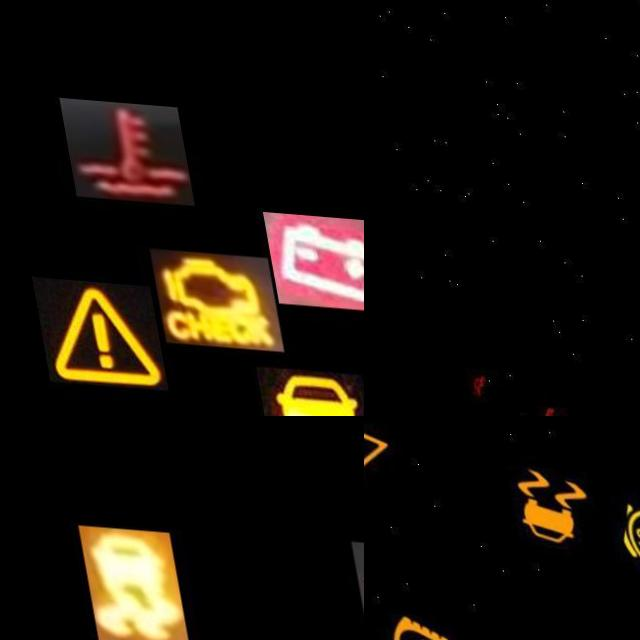Central Warning lamp: (22, 272, 155, 385)
Engine cooling system: (56, 92, 188, 198), (333, 536, 364, 640)
